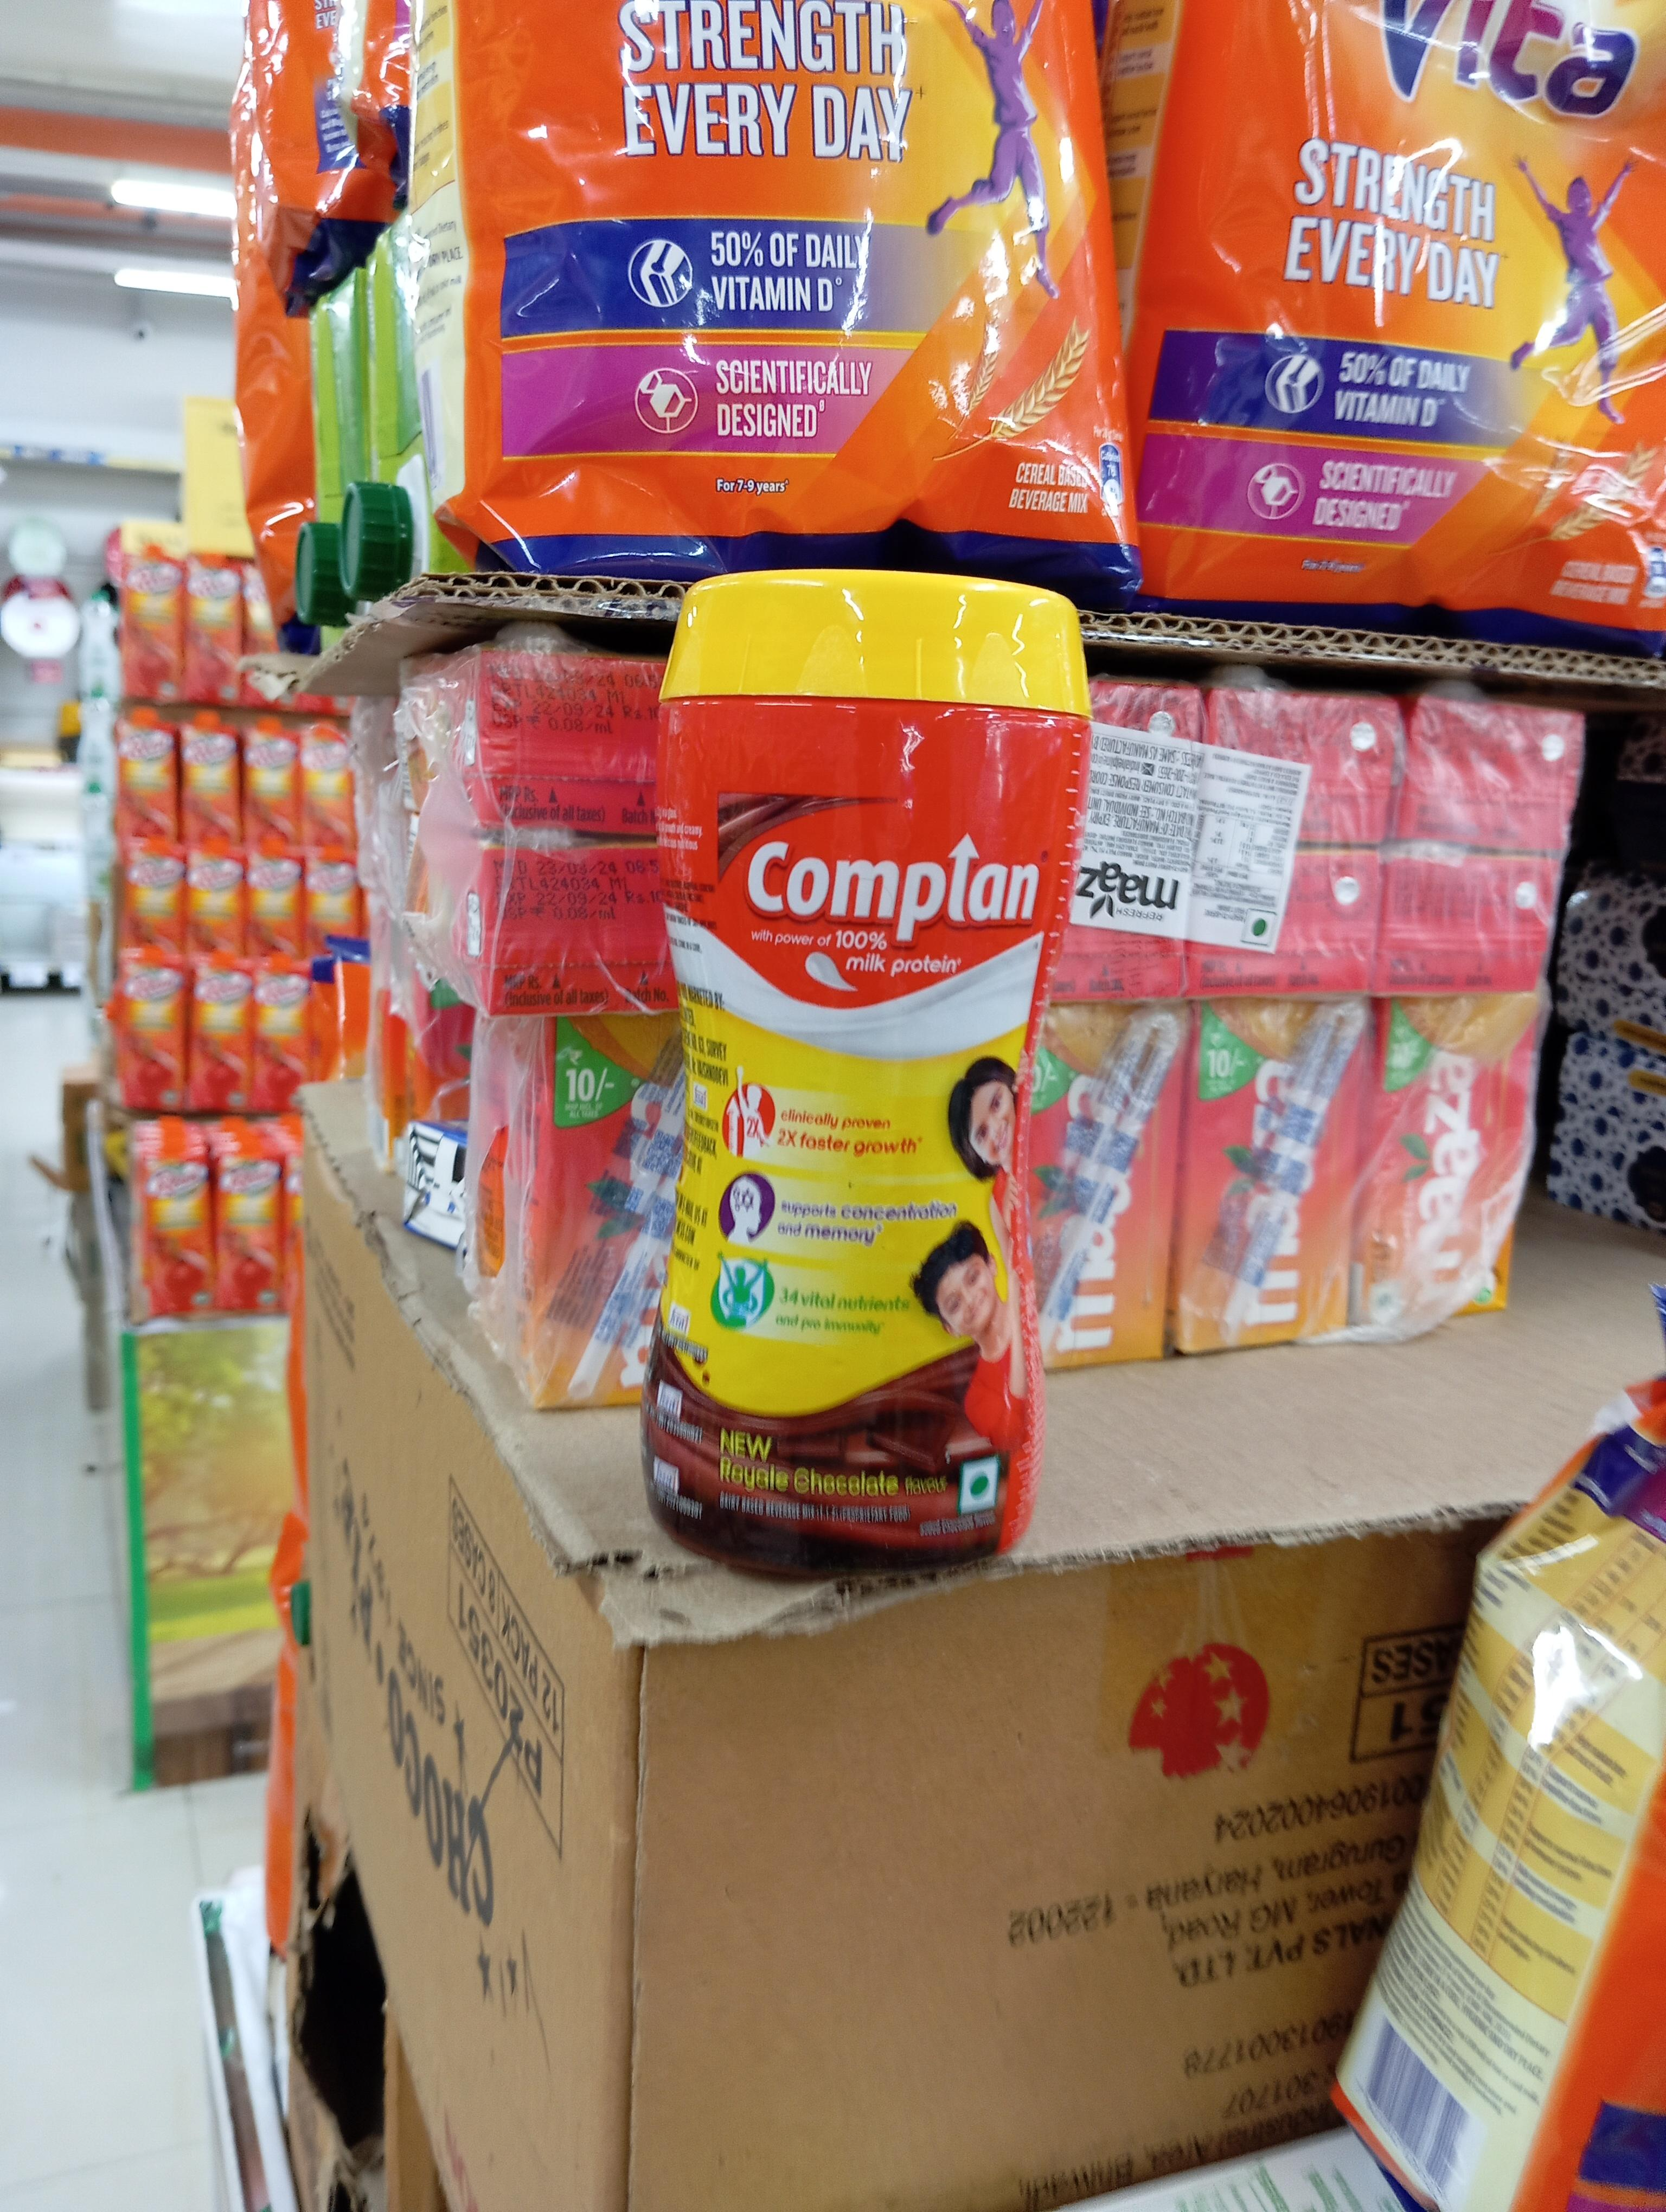COMPLAN_CHOCOLATE_200_GMS_JAR: (651, 561, 1041, 1586)
